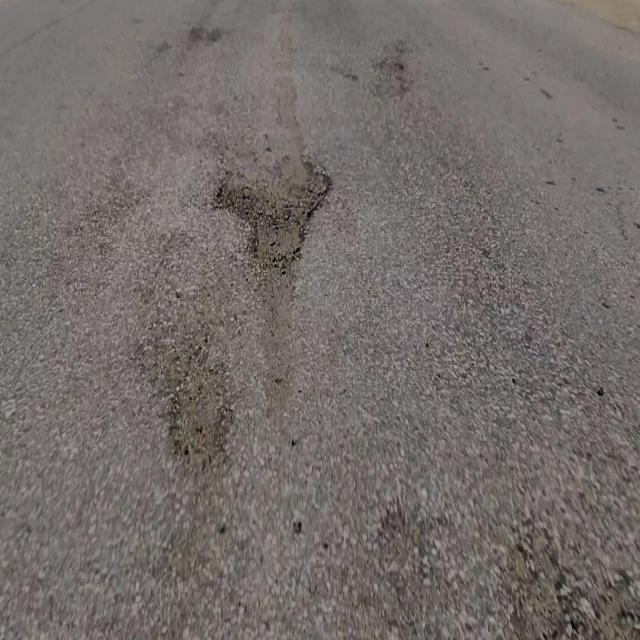Potholes: (211, 139, 336, 278)
